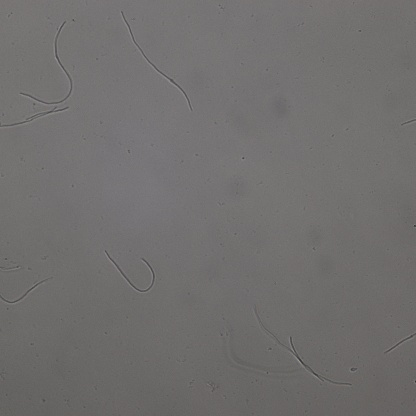Sensitive: (255, 309, 350, 386), (121, 12, 193, 109), (21, 21, 73, 105), (106, 250, 156, 293), (1, 107, 69, 131), (1, 277, 54, 306), (386, 334, 416, 353)
